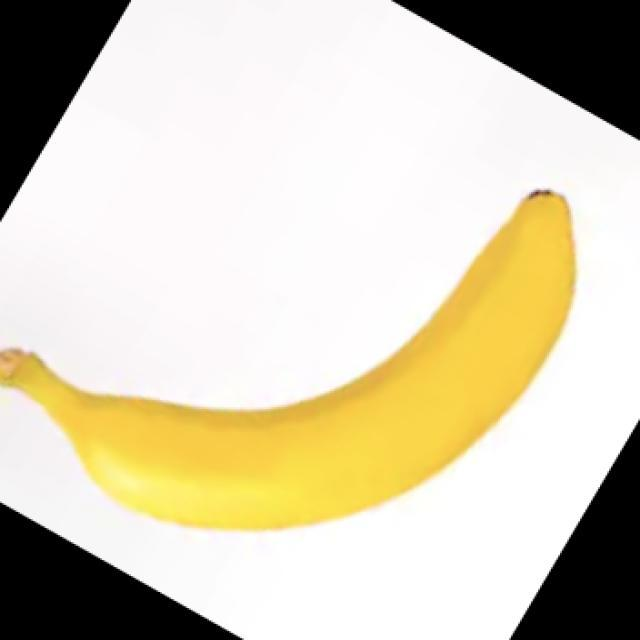Banana: (0, 187, 577, 531)
